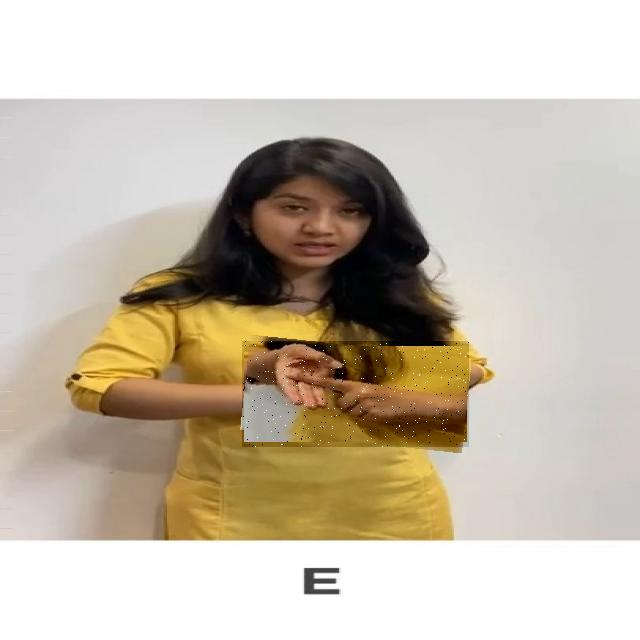E: (242, 341, 469, 447)
